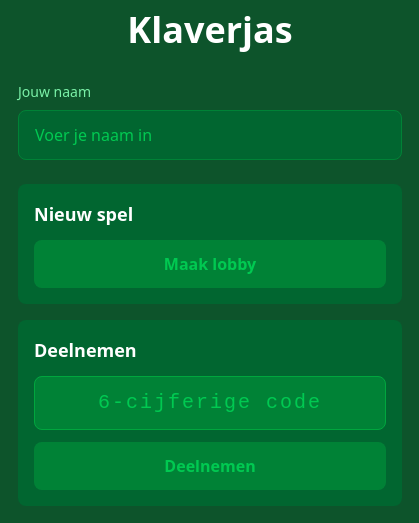
it: HomePage › create lobby button › should be enabled when player name is entered
The image size is (419, 523).
Type "TestPlayer" into the field labelled "Jouw naam".
click(210, 135); type("TestPlayer")  # box x1=18 y1=110 x2=402 y2=160
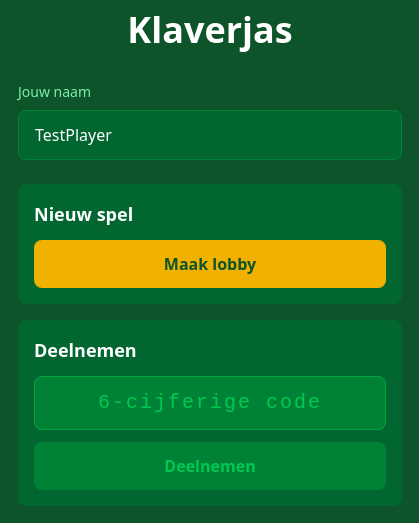
Check: the button "Maak lobby" is enabled, box x1=34 y1=240 x2=386 y2=288
